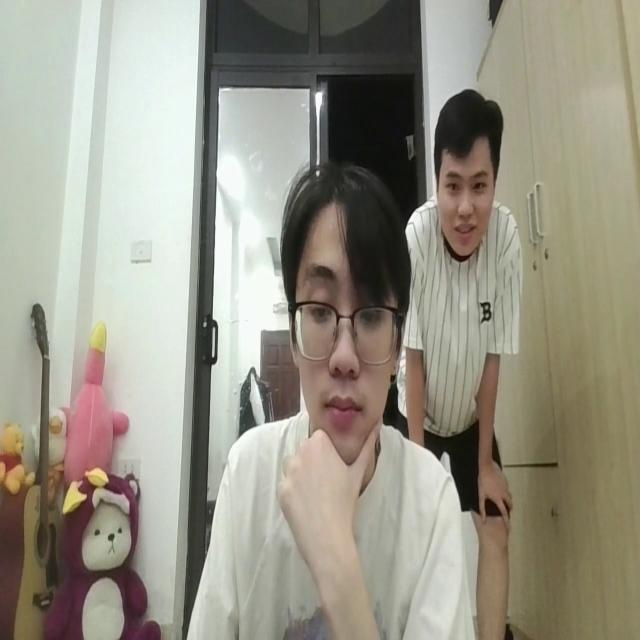extra_person: (410, 82, 516, 510)
student: (191, 157, 463, 640)
